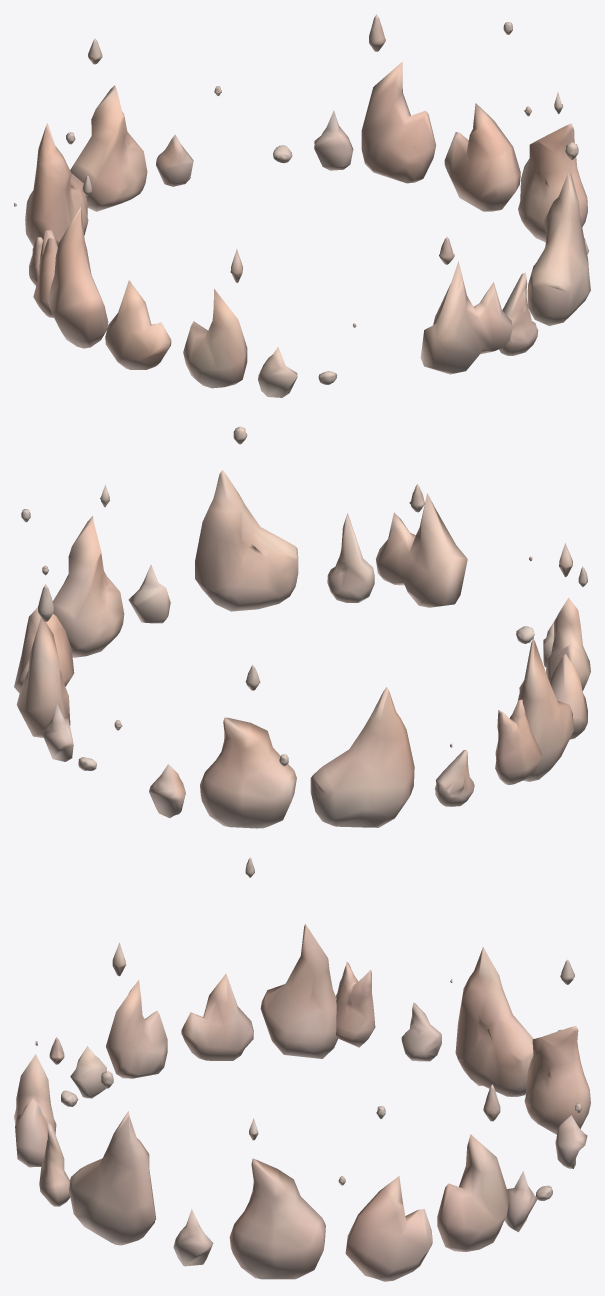
The model's file is fuego_2.glb.
3 renders of one model, top to bottom at view 1: azimuth 30°, elevation 25°; view 2: azimuth 150°, elevation 25°; view 3: azimuth 270°, elevation 25°, orthographic.
Visible parts, largest first — view 1: tripo_node_032ed108-6b63-4010-9c75-a12696b3a848; view 2: tripo_node_032ed108-6b63-4010-9c75-a12696b3a848; view 3: tripo_node_032ed108-6b63-4010-9c75-a12696b3a848.
Boxes of the visible parts, <box> form: tripo_node_032ed108-6b63-4010-9c75-a12696b3a848: <box>14,14,590,397</box>; tripo_node_032ed108-6b63-4010-9c75-a12696b3a848: <box>14,426,590,828</box>; tripo_node_032ed108-6b63-4010-9c75-a12696b3a848: <box>14,857,590,1281</box>.
Bounding box in the file's own units: 0.998 × 0.3652 × 0.9824.
1 material, 1 textured.
